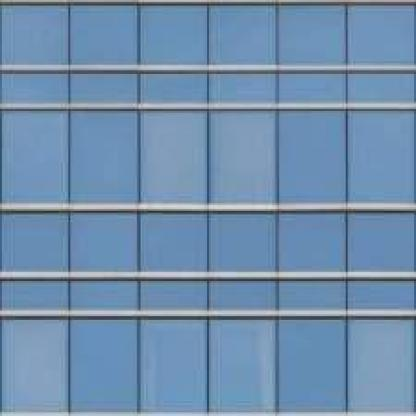window: (4, 322, 66, 410), (74, 322, 135, 410), (283, 112, 344, 200), (3, 113, 64, 201), (74, 114, 135, 202), (144, 114, 205, 202), (144, 322, 202, 412), (283, 322, 342, 410), (214, 114, 272, 202), (216, 320, 270, 412), (353, 114, 409, 202), (355, 324, 410, 408), (4, 4, 68, 63), (351, 5, 414, 63), (74, 6, 137, 64), (281, 7, 344, 65), (212, 5, 274, 63), (142, 9, 206, 63), (352, 216, 412, 268), (214, 218, 274, 270), (283, 218, 342, 270), (145, 218, 204, 270), (76, 218, 133, 270), (6, 218, 64, 268), (212, 76, 276, 102), (4, 74, 66, 100), (142, 76, 206, 100), (285, 76, 344, 102), (74, 76, 137, 100), (353, 76, 414, 100), (6, 284, 64, 308), (76, 284, 133, 308), (214, 286, 274, 308), (145, 286, 204, 308), (283, 286, 344, 307), (353, 286, 414, 307)
